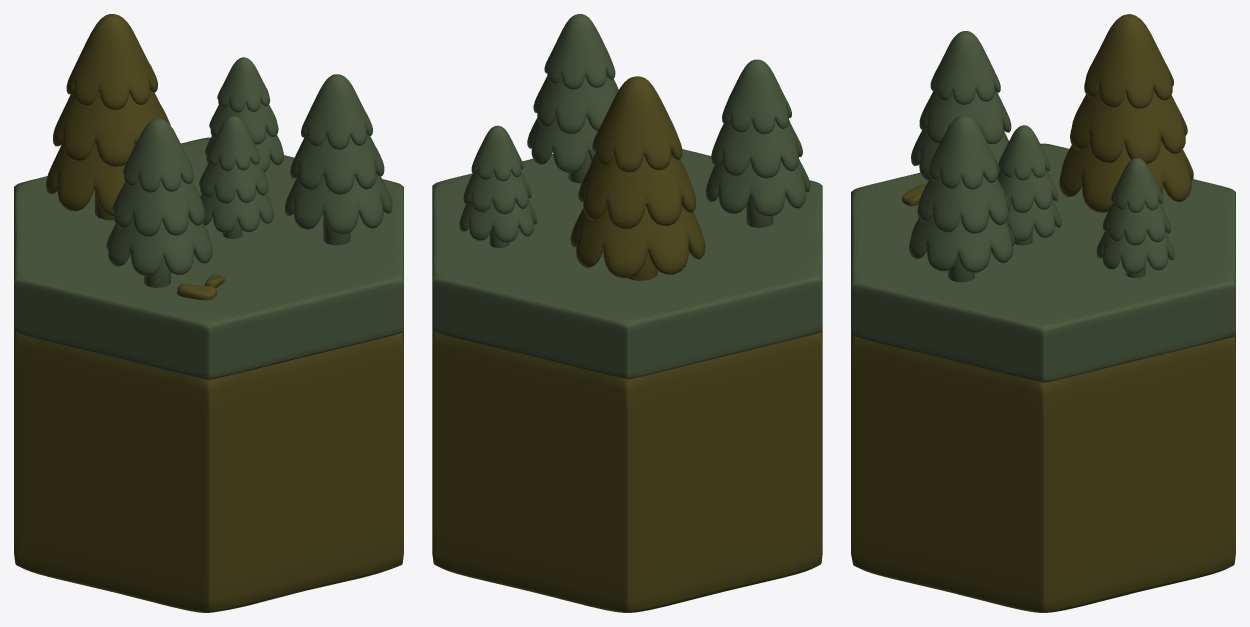
Rendered from herbetest.fbx.
The picture shows the model from 3 angles, left to right: view 1: azimuth 30°, elevation 25°; view 2: azimuth 150°, elevation 25°; view 3: azimuth 270°, elevation 25°; orthographic projection.
Visible parts, largest first — view 1: Cylinder.050; view 2: Cylinder.050; view 3: Cylinder.050.
Boxes of the visible parts, left/top/right/bottom form: Cylinder.050: left=14, top=14, right=403, bottom=612; Cylinder.050: left=432, top=14, right=822, bottom=612; Cylinder.050: left=851, top=14, right=1235, bottom=612.
Bounding box in the file's own units: 826 × 991 × 717.
